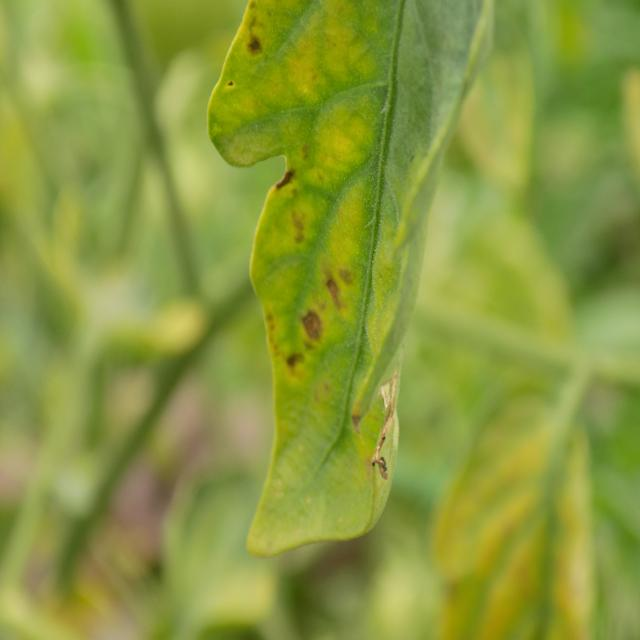tomato_early blight: (208, 2, 474, 555)
